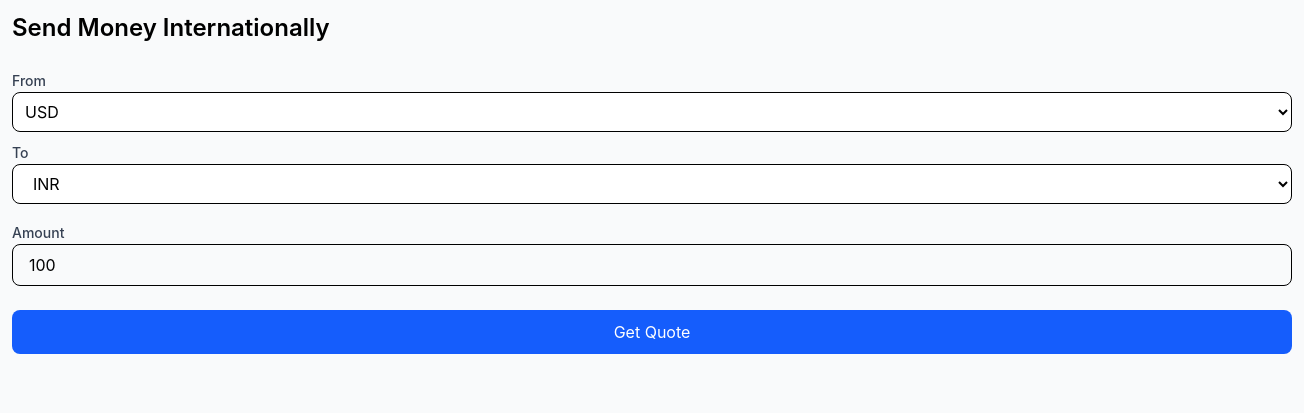
Scenario: QuoteScreen › shows error if same currency selected
Select "USD" in the 2nd dropdown at [652, 184], box [12,164,1292,204]
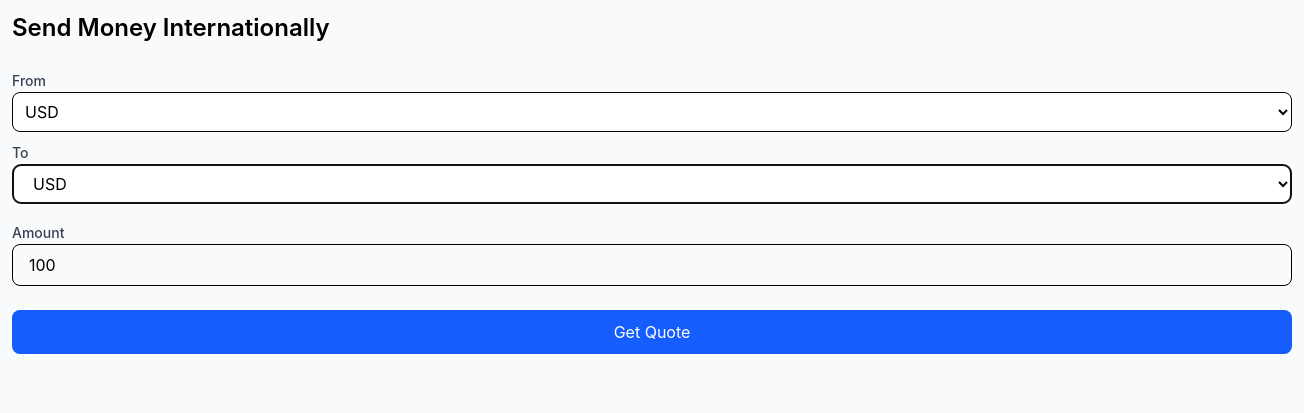
Click the button "Get Quote" at [652, 332], box [12,310,1292,354]
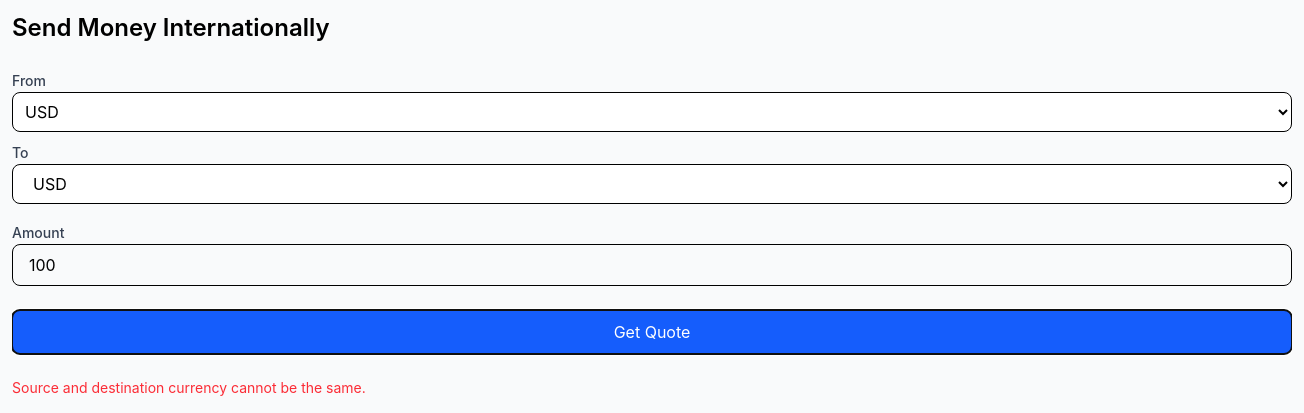
Now the text "Source and destination currency cannot be the same." is shown, box [12,379,366,396]
